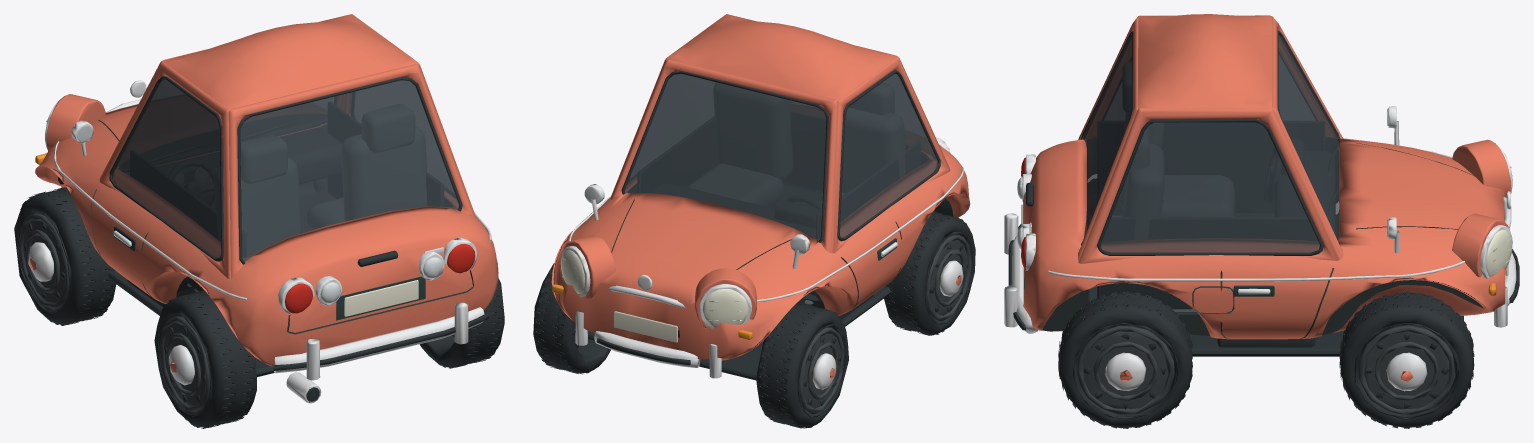
File: bubble_lod2.fbx
3 renders of one model, left to right at view 1: azimuth 30°, elevation 25°; view 2: azimuth 150°, elevation 25°; view 3: azimuth 270°, elevation 25°, orthographic. The views are drawn at different scales.
Parts seen in each view (by area): view 1: Body, Wheel_RL_Mesh, Wheel_FL_Mesh, Wheel_RR_Mesh; view 2: Body, Wheel_FL_Mesh, Wheel_RL_Mesh, Wheel_FR_Mesh; view 3: Body, Wheel_RR_Mesh, Wheel_FR_Mesh.
Boxes of the visible parts, x1=… form: Body: x1=35, y1=14, x2=498, y2=403; Wheel_RL_Mesh: x1=154, y1=290, x2=256, y2=428; Wheel_FL_Mesh: x1=14, y1=187, x2=116, y2=325; Wheel_RR_Mesh: x1=420, y1=278, x2=504, y2=368; Body: x1=551, y1=14, x2=970, y2=380; Wheel_FL_Mesh: x1=756, y1=303, x2=848, y2=428; Wheel_RL_Mesh: x1=884, y1=211, x2=975, y2=335; Wheel_FR_Mesh: x1=533, y1=263, x2=610, y2=374; Body: x1=1004, y1=14, x2=1519, y2=356; Wheel_RR_Mesh: x1=1058, y1=291, x2=1192, y2=428; Wheel_FR_Mesh: x1=1339, y1=291, x2=1474, y2=428.
Bounding box in the file's own units: 178 × 178 × 253.
